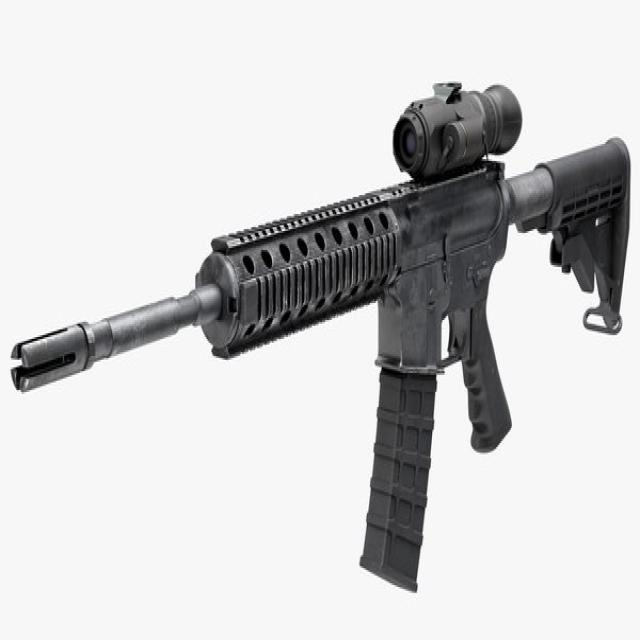Rifle: (11, 81, 631, 595)
